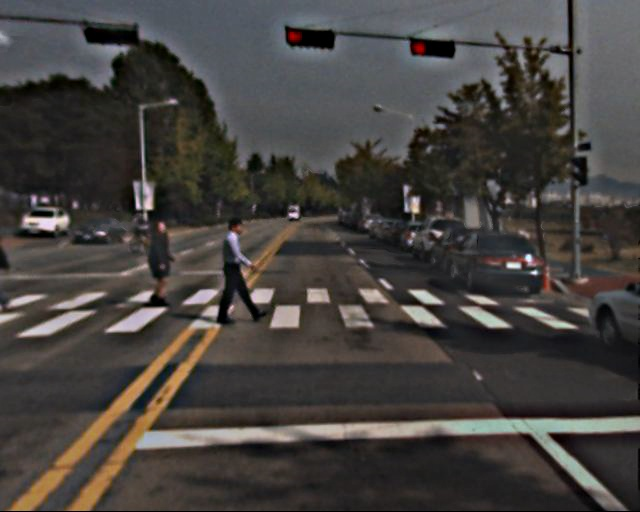person: (209, 214, 260, 323), (142, 218, 178, 304)
